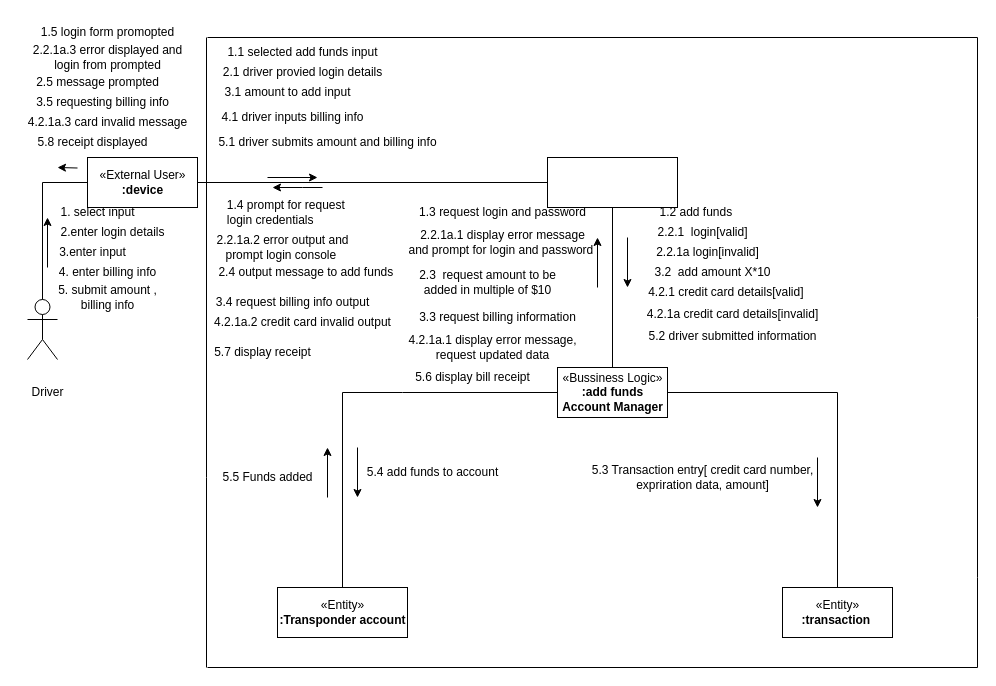
The diagram is 996 pixels wide and 686 high, and some of its shapes have lost their labels. The shapes that lost their labels are listed below. From the top down, each one's box as (x1, y1, x2, y2) in pixels, then its label:
(546, 156, 678, 208): «user interface» :account registration interface
(26, 298, 58, 360): Actor
